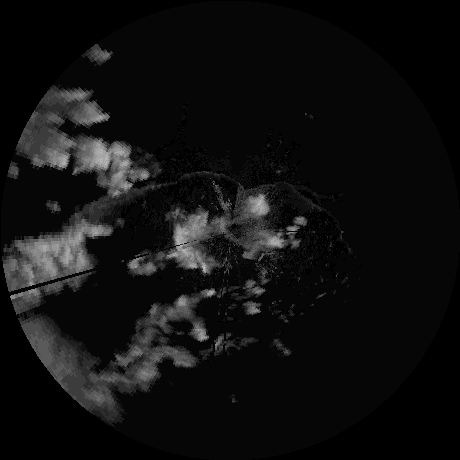frontgust: (137, 168, 245, 196), (247, 180, 320, 211)
